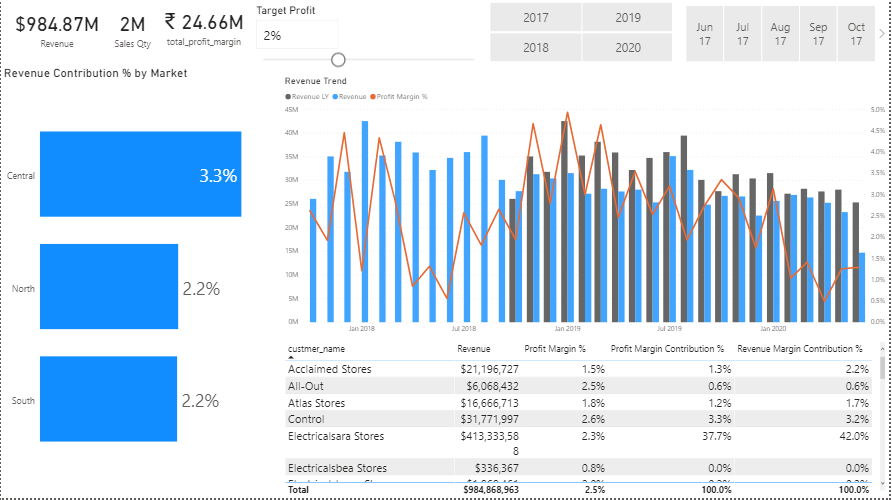

What the dashboard file says about the page in this screenshot:
{"tool":"powerbi","page":{"name":"Performance Insights","canvas":[1600,900],"ordinal":2},"visuals":[{"type":"card","fields":{"Values":["Base Measures.Revenue"]},"box":[12.7,3.6,213.7,96],"z":0},{"type":"card","fields":{"Values":["Base Measures.Sales Qty"]},"box":[226.4,3.6,106.9,96],"z":1000},{"type":"slicer","fields":{"Values":["sales date.year"]},"box":[800.6,0,378.6,119.5],"z":2000},{"type":"slicer","fields":{"Values":["sales date.cy_date"]},"box":[1157.4,5.4,442,114.1],"z":3000},{"type":"tableEx","title":"Top 5 Customer by Revenue","fields":{"Values":["sales customers.custmer_name","Base Measures.Revenue","Base Measures.Profit Margin %","Base Measures.Profit Margin Contribution %","Base Measures.Revenue Margin Contribution %"]},"box":[507.2,525.3,1092.2,374.9],"z":4000},{"type":"card","fields":{"Values":["Base Measures.total_profit_margin"]},"box":[342.3,0,193.8,96],"z":5000},{"type":"clusteredBarChart","title":"Revenue Contribution % by Market","fields":{"Category":["sales markets.zone","sales markets.markets_name"],"Y":["Base Measures.Profit Margin %"]},"box":[0,121.4,507.2,771.6],"z":6000},{"type":"slicer","fields":{"Values":["Target Profit.Target Profit"]},"box":[552.5,3.6,248.2,117.7],"z":7000},{"type":"lineClusteredColumnComboChart","title":"Revenue Trend","fields":{"Category":["sales date.cy_date"],"Y":["Base Measures.Revenue LY","Base Measures.Revenue"],"Y2":["Base Measures.Profit Margin %"]},"box":[507.2,121.4,1092.2,403.9],"z":8000}]}

Visuals, with their boxes in screenshot pixels (x1, y1, x2, y2), scaled from the page's 1600x900 canvas onto the 892x500 screenshot:
card - Base Measures.Revenue: 7 2 126 55
card - Base Measures.Sales Qty: 126 2 186 55
slicer - sales date.year: 446 0 657 66
slicer - sales date.cy_date: 645 3 891 66
"Top 5 Customer by Revenue" tableEx: 283 292 891 499
card - Base Measures.total_profit_margin: 191 0 299 53
"Revenue Contribution % by Market" clusteredBarChart: 0 67 283 496
slicer - Target Profit.Target Profit: 308 2 446 67
"Revenue Trend" lineClusteredColumnComboChart: 283 67 891 292
